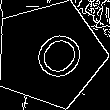O_SW: (16, 21, 84, 88)
